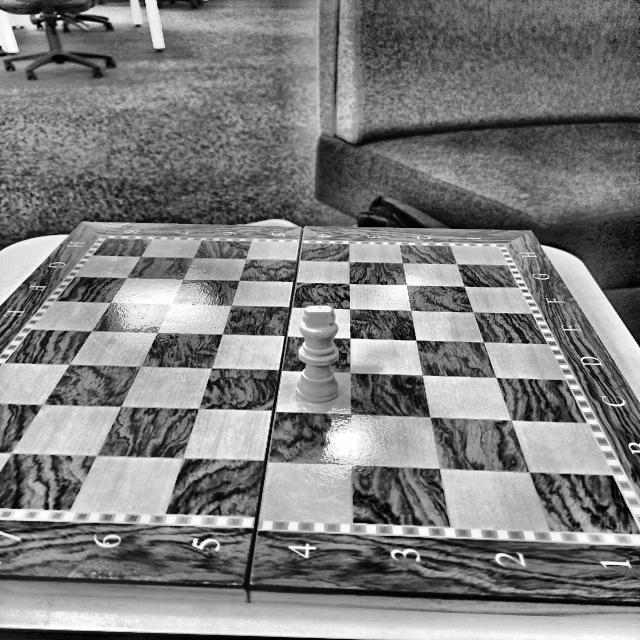white-king: (296, 306, 339, 403)
